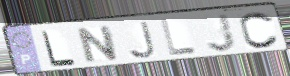C: (238, 10, 281, 49)
J: (205, 13, 239, 54), (126, 20, 158, 60)
L: (159, 18, 199, 57), (40, 29, 78, 68)
N: (76, 24, 121, 65)
